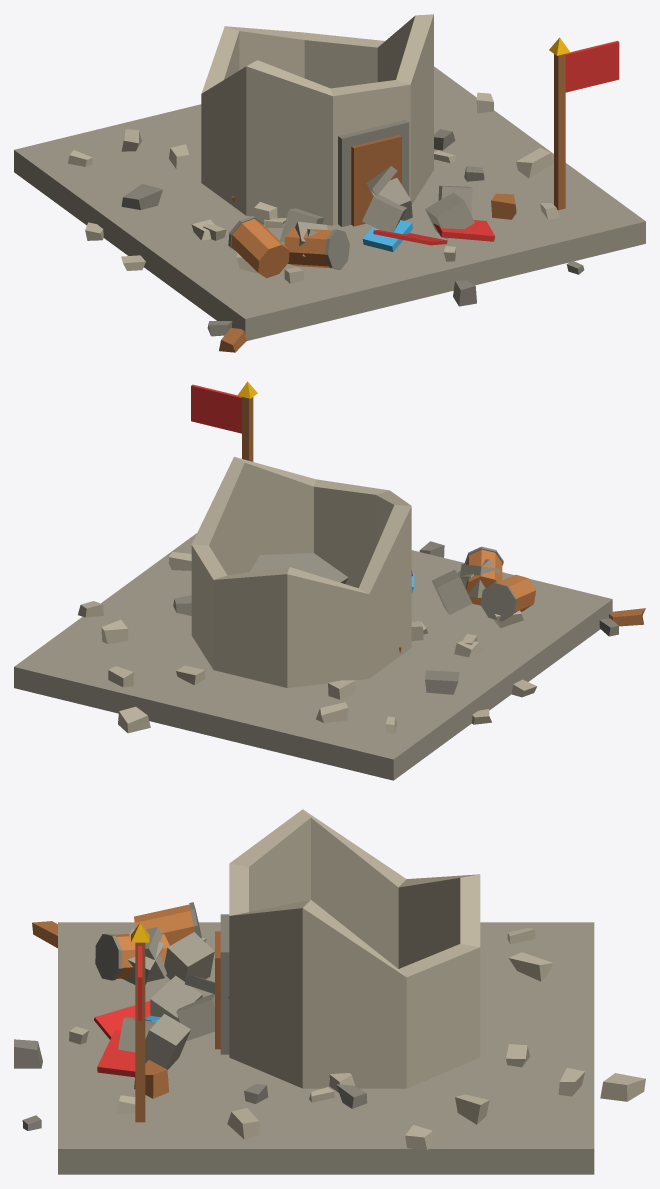
Rendered from defense_tower_t2_v1_dmg2.glb.
3 views of the same model, one above another, from view 1: azimuth 30°, elevation 25°; view 2: azimuth 150°, elevation 25°; view 3: azimuth 270°, elevation 25° (orthographic). The views are drawn at different scales.
Parts seen in each view (by area): view 1: defense_tower_t2_v1_dmg2; view 2: defense_tower_t2_v1_dmg2; view 3: defense_tower_t2_v1_dmg2.
Part boxes in pixels (x1,y1,x2,y2): defense_tower_t2_v1_dmg2: [14, 14, 645, 352]; defense_tower_t2_v1_dmg2: [14, 381, 645, 780]; defense_tower_t2_v1_dmg2: [14, 809, 645, 1174].
Size of the model in its own units: 0.8209 by 0.345 by 0.8841.
Materials: 1 (1 with a texture image).
